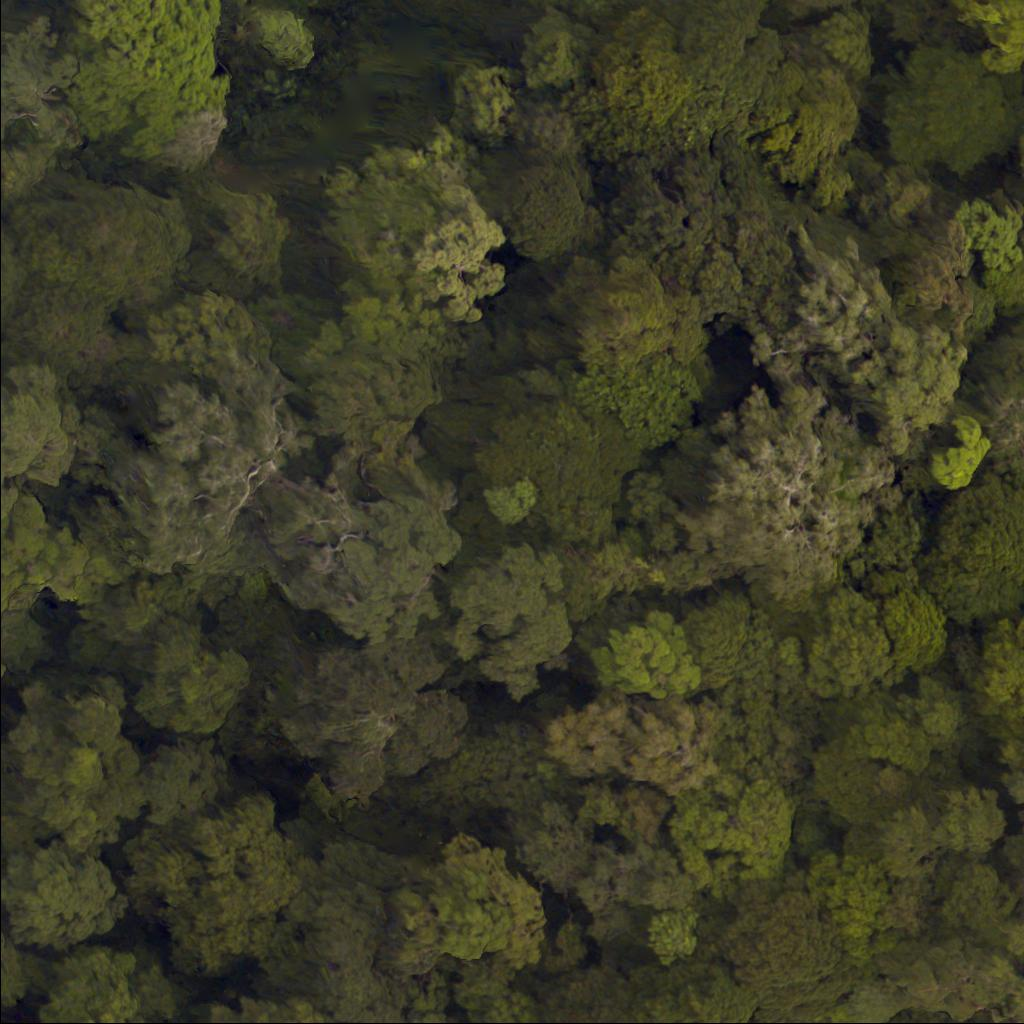crown: (96, 339, 465, 642), (687, 391, 898, 599), (605, 135, 810, 329), (266, 631, 473, 804), (128, 787, 306, 974), (64, 0, 229, 162), (851, 879, 1023, 1023), (476, 396, 644, 543), (708, 877, 873, 1023), (400, 824, 552, 976), (451, 541, 572, 700), (542, 694, 720, 796), (882, 46, 1016, 174), (556, 255, 706, 368), (811, 692, 934, 824), (911, 478, 1023, 620), (672, 775, 796, 896), (135, 619, 255, 741), (758, 63, 859, 201), (705, 672, 820, 786), (669, 0, 782, 109), (414, 187, 505, 317), (793, 581, 894, 698), (32, 940, 171, 1023), (801, 857, 901, 969), (0, 481, 88, 601), (597, 348, 702, 448), (605, 613, 711, 709), (501, 166, 603, 256), (896, 224, 980, 330), (148, 736, 234, 832), (855, 326, 964, 399), (643, 967, 774, 1023), (878, 590, 957, 679), (849, 514, 924, 606), (849, 155, 927, 238), (683, 598, 750, 687), (974, 365, 1023, 478), (949, 198, 1023, 272), (949, 0, 1023, 73), (936, 779, 1007, 850), (803, 3, 871, 77), (929, 413, 993, 491), (197, 992, 351, 1023), (972, 624, 1023, 715), (642, 904, 703, 964), (483, 480, 538, 524), (0, 937, 28, 1023), (539, 1001, 647, 1023), (980, 258, 1023, 307), (781, 0, 849, 13), (0, 620, 4, 670), (1019, 129, 1023, 178)
